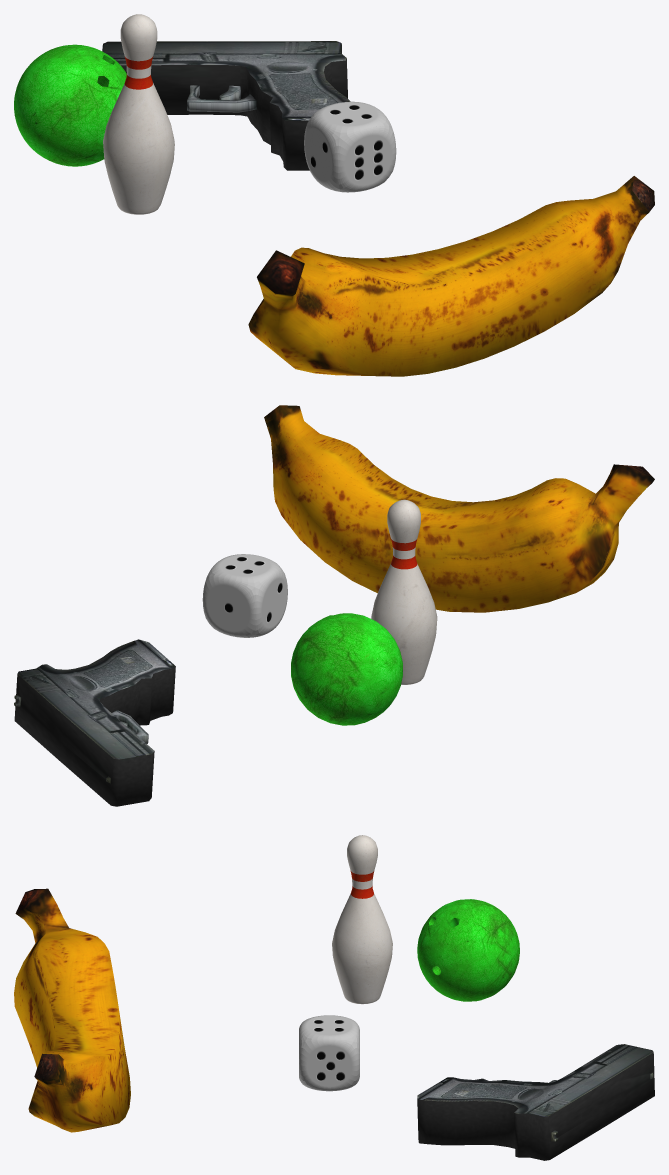
3 renders of one model, top to bottom at view 1: azimuth 30°, elevation 25°; view 2: azimuth 150°, elevation 25°; view 3: azimuth 270°, elevation 25°, orthographic. The views are drawn at different scales.
Visible parts, largest first — view 1: Banana, Cube_Cube.001, ball, polySurface1, Die2; view 2: Banana, Cube_Cube.001, ball, polySurface1, Die2; view 3: Banana, Cube_Cube.001, ball, polySurface1, Die2.
Boxes of the visible parts, box(x1,y1,x2,y2) form: Banana: box(248, 176, 654, 376); Cube_Cube.001: box(102, 41, 350, 170); ball: box(14, 44, 126, 166); polySurface1: box(103, 14, 174, 214); Die2: box(304, 101, 396, 192); Banana: box(264, 405, 654, 612); Cube_Cube.001: box(14, 639, 175, 806); ball: box(291, 613, 402, 725); polySurface1: box(371, 499, 437, 684); Die2: box(202, 554, 287, 637); Banana: box(14, 888, 130, 1132); Cube_Cube.001: box(417, 1044, 654, 1160); ball: box(417, 899, 519, 1001); polySurface1: box(332, 835, 392, 1004); Die2: box(299, 1015, 359, 1091).
Bounding box in the file's own units: 6.57 × 3.96 × 10.55.
4 materials, 4 textured.
